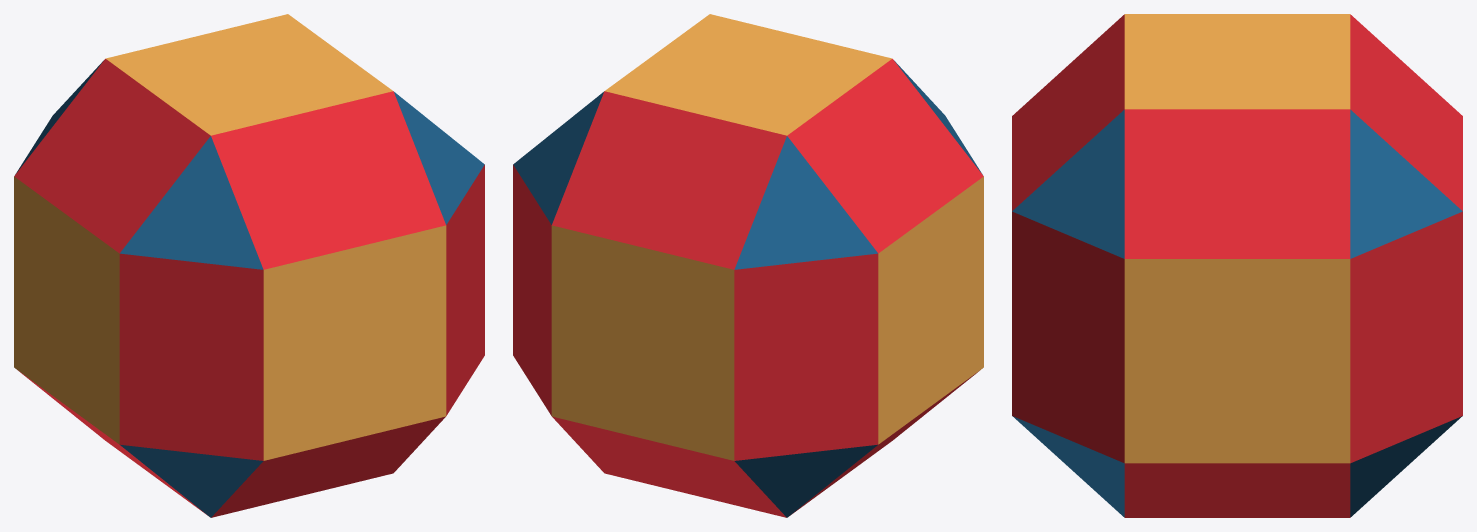
The model's file is rhombicuboctahedron.fbx.
3 views of the same model, side by side, from view 1: azimuth 30°, elevation 25°; view 2: azimuth 150°, elevation 25°; view 3: azimuth 270°, elevation 25° (orthographic). The views are drawn at different scales.
Visible parts, largest first — view 1: polyhedronisme-eC; view 2: polyhedronisme-eC; view 3: polyhedronisme-eC.
Boxes of the visible parts, left/top/right/bottom form: polyhedronisme-eC: left=14, top=14, right=484, bottom=517; polyhedronisme-eC: left=513, top=14, right=983, bottom=517; polyhedronisme-eC: left=1012, top=14, right=1462, bottom=517.
Bounding box in the file's own units: 163 × 163 × 163.
